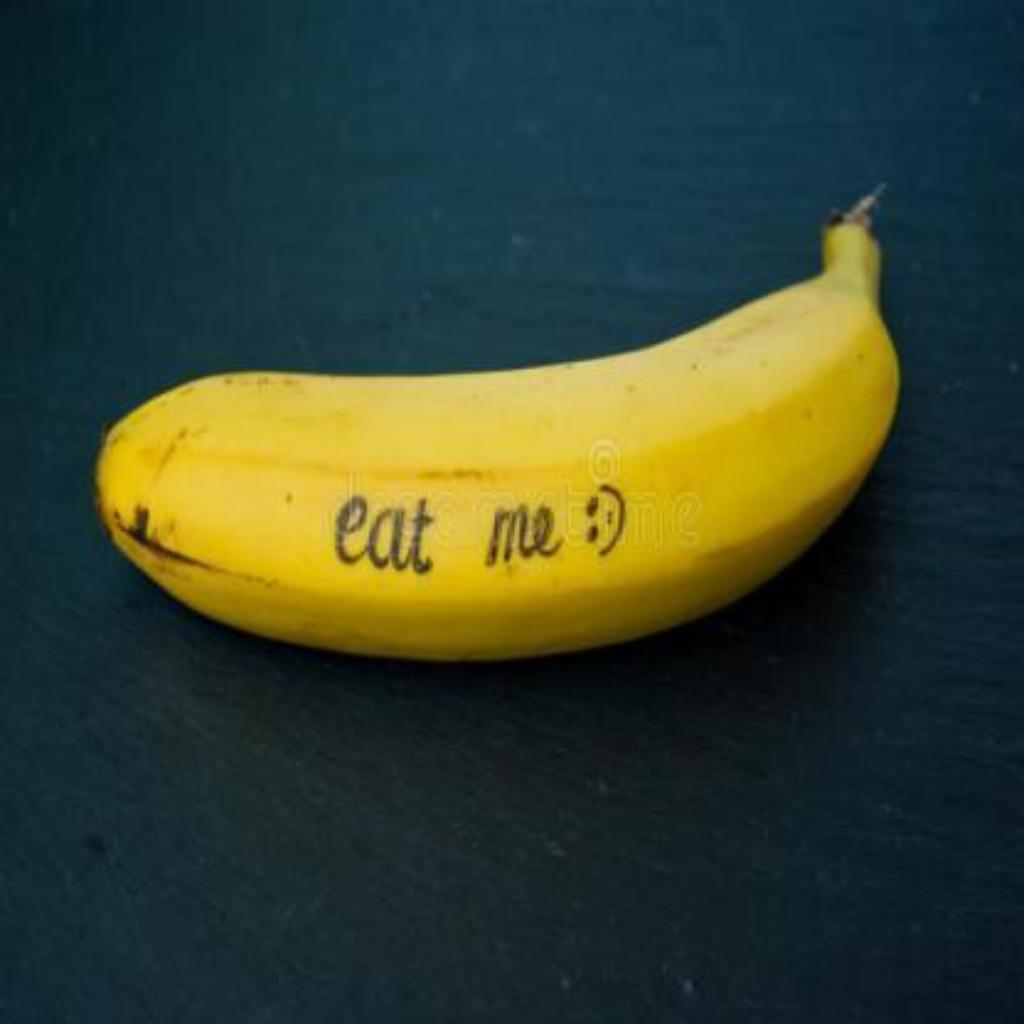banana: (94, 192, 903, 665)
